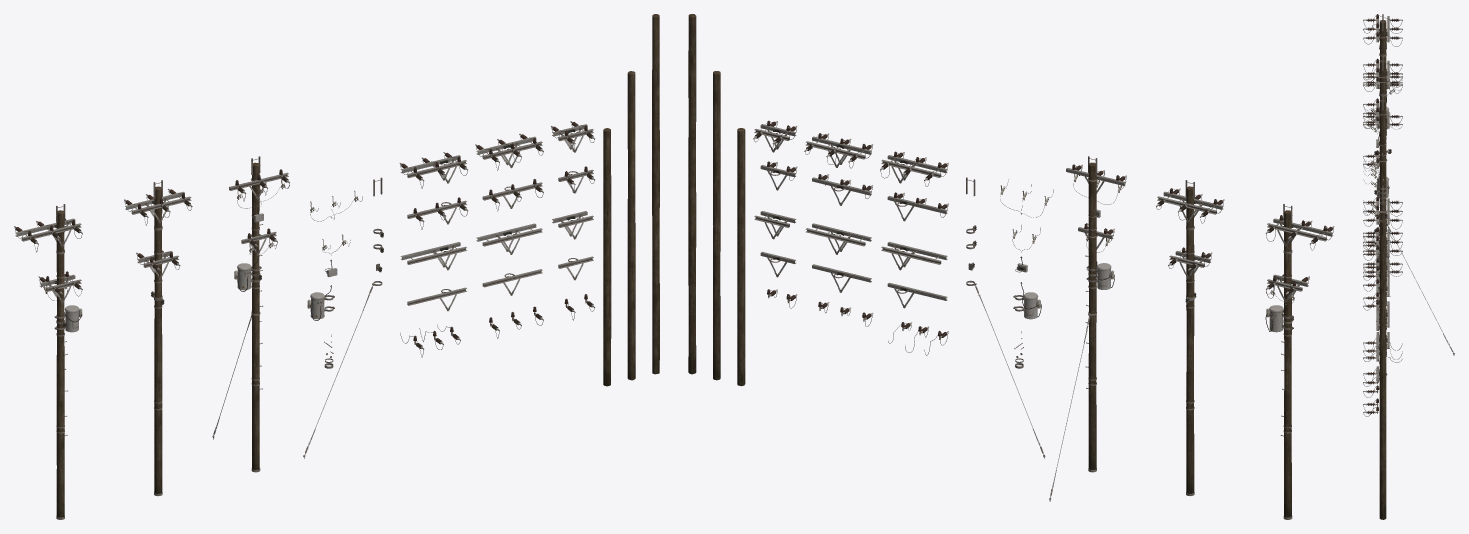
Rendered from modular_electricity_poles.glb.
The picture shows the model from 3 angles, left to right: view 1: azimuth 30°, elevation 25°; view 2: azimuth 150°, elevation 25°; view 3: azimuth 270°, elevation 25°; orthographic projection. The views are drawn at different scales.
Visible parts, largest first — view 1: pole_large, pole, preset_03_pole, preset_02_pole, pole_small, preset_01_pole, connection_large_01, connection_large_offset_01, preset_02_connection_large_01, preset_03_connection_large_offset_01, support_large_01, support_large_offset_01; view 2: pole_large, preset_01_pole, pole, preset_02_pole, pole_small, preset_03_pole, connection_large_01, connection_large_offset_01, preset_02_connection_large_01, preset_03_connection_large_offset_01, support_large_offset_01, support_large_01; view 3: pole_large, preset_01_pole, connection_large_offset_01, preset_03_connection_large_offset_01, preset_02_connection_large_01, connection_large_01, connection_small_01, preset_03_pole, preset_02_pole, preset_01_connection_large_02, preset_02_connection_small_01, preset_03_connection_small_01_02 (+11 smaller).
Boxes of the visible parts, <box> form: pole_large: <box>652,14,659,374</box>; pole: <box>627,71,635,380</box>; preset_03_pole: <box>56,210,64,517</box>; preset_02_pole: <box>154,186,162,493</box>; pole_small: <box>603,128,611,386</box>; preset_01_pole: <box>252,162,259,469</box>; connection_large_01: <box>475,133,543,170</box>; connection_large_offset_01: <box>399,152,467,188</box>; preset_02_connection_large_01: <box>124,188,192,225</box>; preset_03_connection_large_offset_01: <box>14,218,82,252</box>; support_large_01: <box>476,223,542,254</box>; support_large_offset_01: <box>400,242,466,270</box>; pole_large: <box>688,14,696,374</box>; preset_01_pole: <box>1088,162,1096,469</box>; pole: <box>713,71,720,380</box>; preset_02_pole: <box>1186,186,1194,493</box>; pole_small: <box>737,128,745,386</box>; preset_03_pole: <box>1284,210,1291,517</box>; connection_large_01: <box>804,133,873,168</box>; connection_large_offset_01: <box>880,151,948,186</box>; preset_02_connection_large_01: <box>1156,188,1224,223</box>; preset_03_connection_large_offset_01: <box>1265,215,1334,250</box>; support_large_offset_01: <box>881,241,947,270</box>; support_large_01: <box>805,223,871,254</box>; pole_large: <box>1379,219,1386,519</box>; preset_01_pole: <box>1379,99,1386,237</box>; connection_large_offset_01: <box>1363,196,1402,231</box>; preset_03_connection_large_offset_01: <box>1363,14,1402,49</box>; preset_02_connection_large_01: <box>1363,58,1402,88</box>; connection_large_01: <box>1363,227,1402,257</box>; connection_small_01: <box>1363,258,1402,283</box>; preset_03_pole: <box>1379,20,1386,163</box>; preset_02_pole: <box>1379,60,1386,205</box>; preset_01_connection_large_02: <box>1363,98,1387,128</box>; preset_02_connection_small_01: <box>1363,112,1402,135</box>; preset_03_connection_small_01_02: <box>1363,74,1402,96</box>.
Size of the model in its own units: 13.12 by 7 by 1.96.
2 materials, 2 textured.
